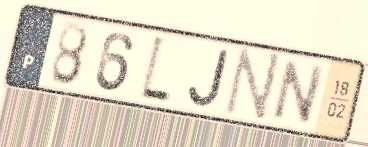6: (95, 30, 135, 94)
8: (48, 20, 90, 88)
J: (185, 47, 232, 110)
L: (137, 32, 174, 108)
N: (220, 46, 285, 126), (268, 57, 329, 127)
